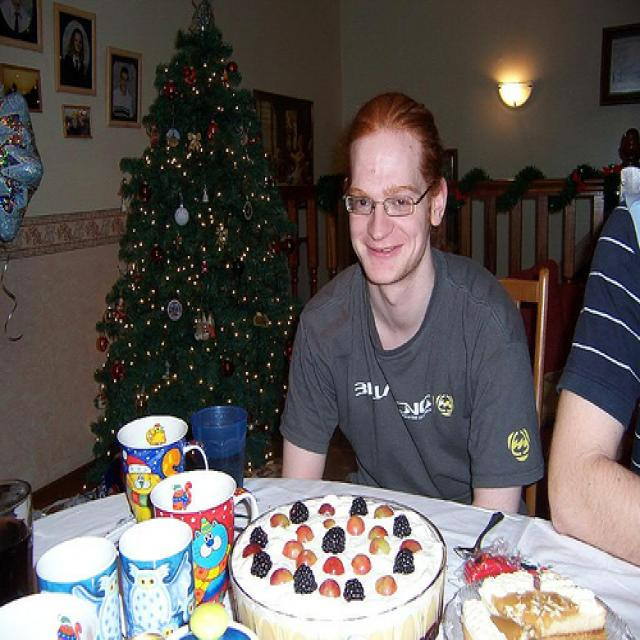chair: (498, 267, 550, 439)
dining table: (0, 404, 640, 632)
